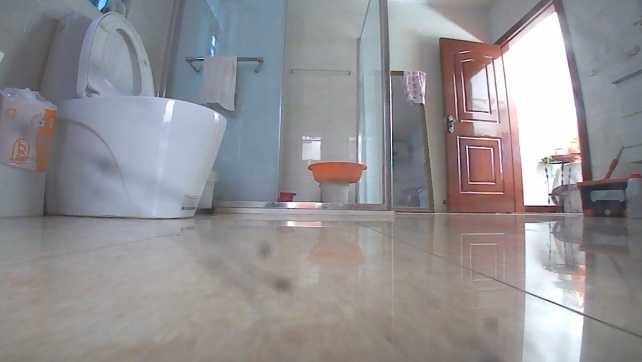door_anno: (435, 34, 516, 217)
toilet: (37, 8, 231, 219)
trash_can: (0, 85, 59, 219)
